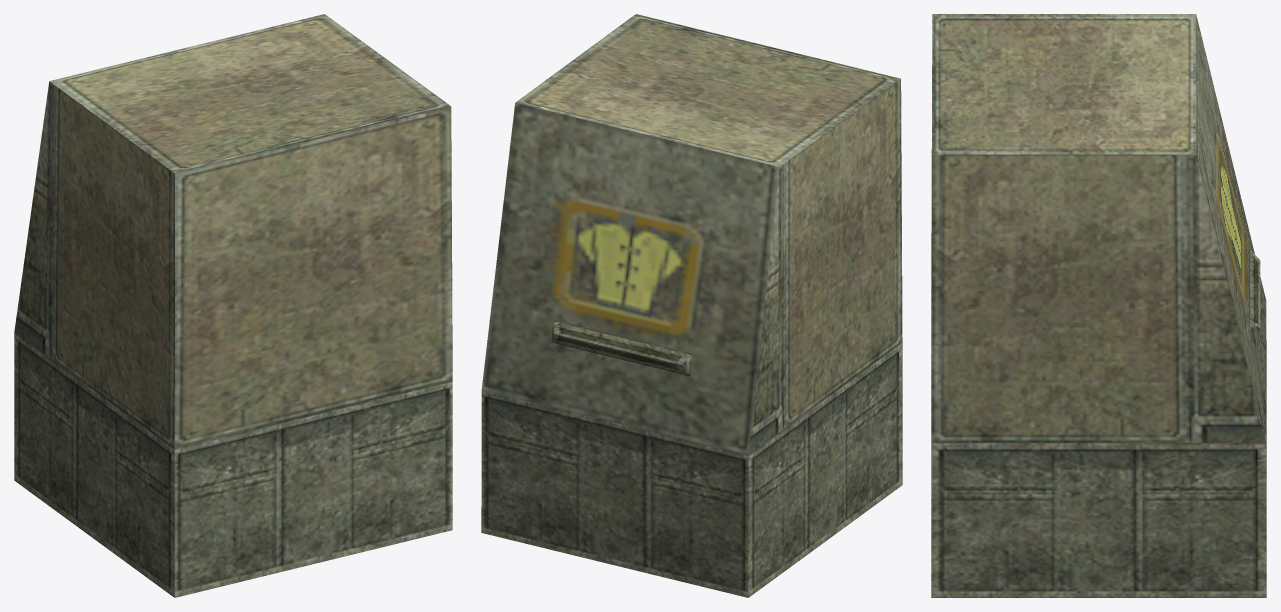
The model's file is con_man_clothing_sm_l1.fbx.
3 views of the same model, side by side, from view 1: azimuth 30°, elevation 25°; view 2: azimuth 150°, elevation 25°; view 3: azimuth 270°, elevation 25° (orthographic). The views are drawn at different scales.
Visible parts, largest first — view 1: mesh_node; view 2: mesh_node; view 3: mesh_node.
Boxes of the visible parts, x1,y1,x2,y2 form: mesh_node: [14, 14, 452, 597]; mesh_node: [481, 14, 902, 597]; mesh_node: [931, 14, 1266, 597].
Bounding box in the file's own units: 0.5303 × 0.772 × 0.5303.
Materials: 1 (1 with a texture image).
